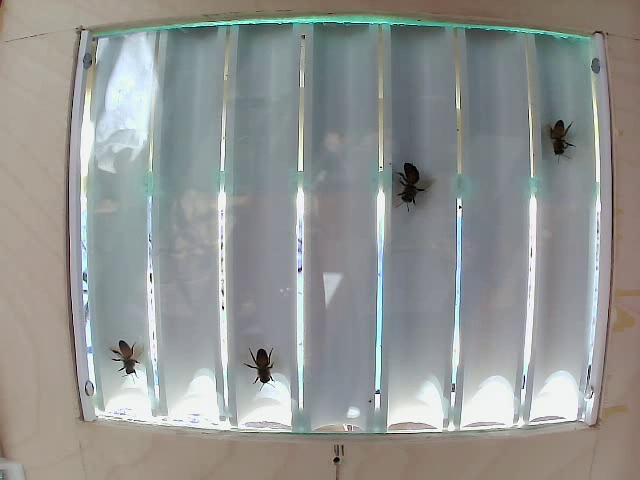bee: (381, 158, 438, 221), (231, 334, 284, 396), (535, 101, 563, 150), (97, 333, 134, 368)
